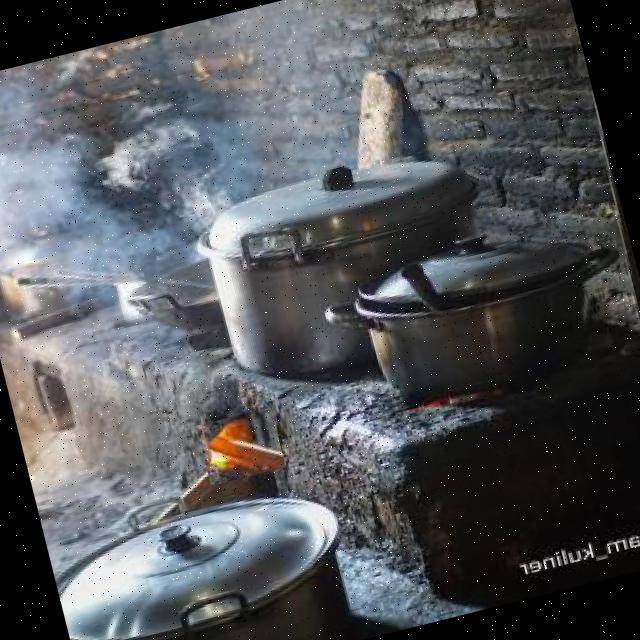fire: (196, 406, 286, 486)
